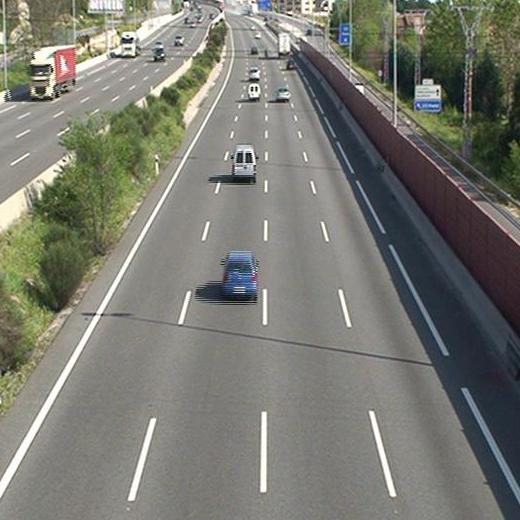car: (220, 252, 257, 298), (275, 87, 290, 101), (248, 66, 259, 79), (286, 60, 295, 69)
small-truck: (278, 32, 290, 58)
van: (232, 145, 256, 179), (247, 83, 259, 100)
